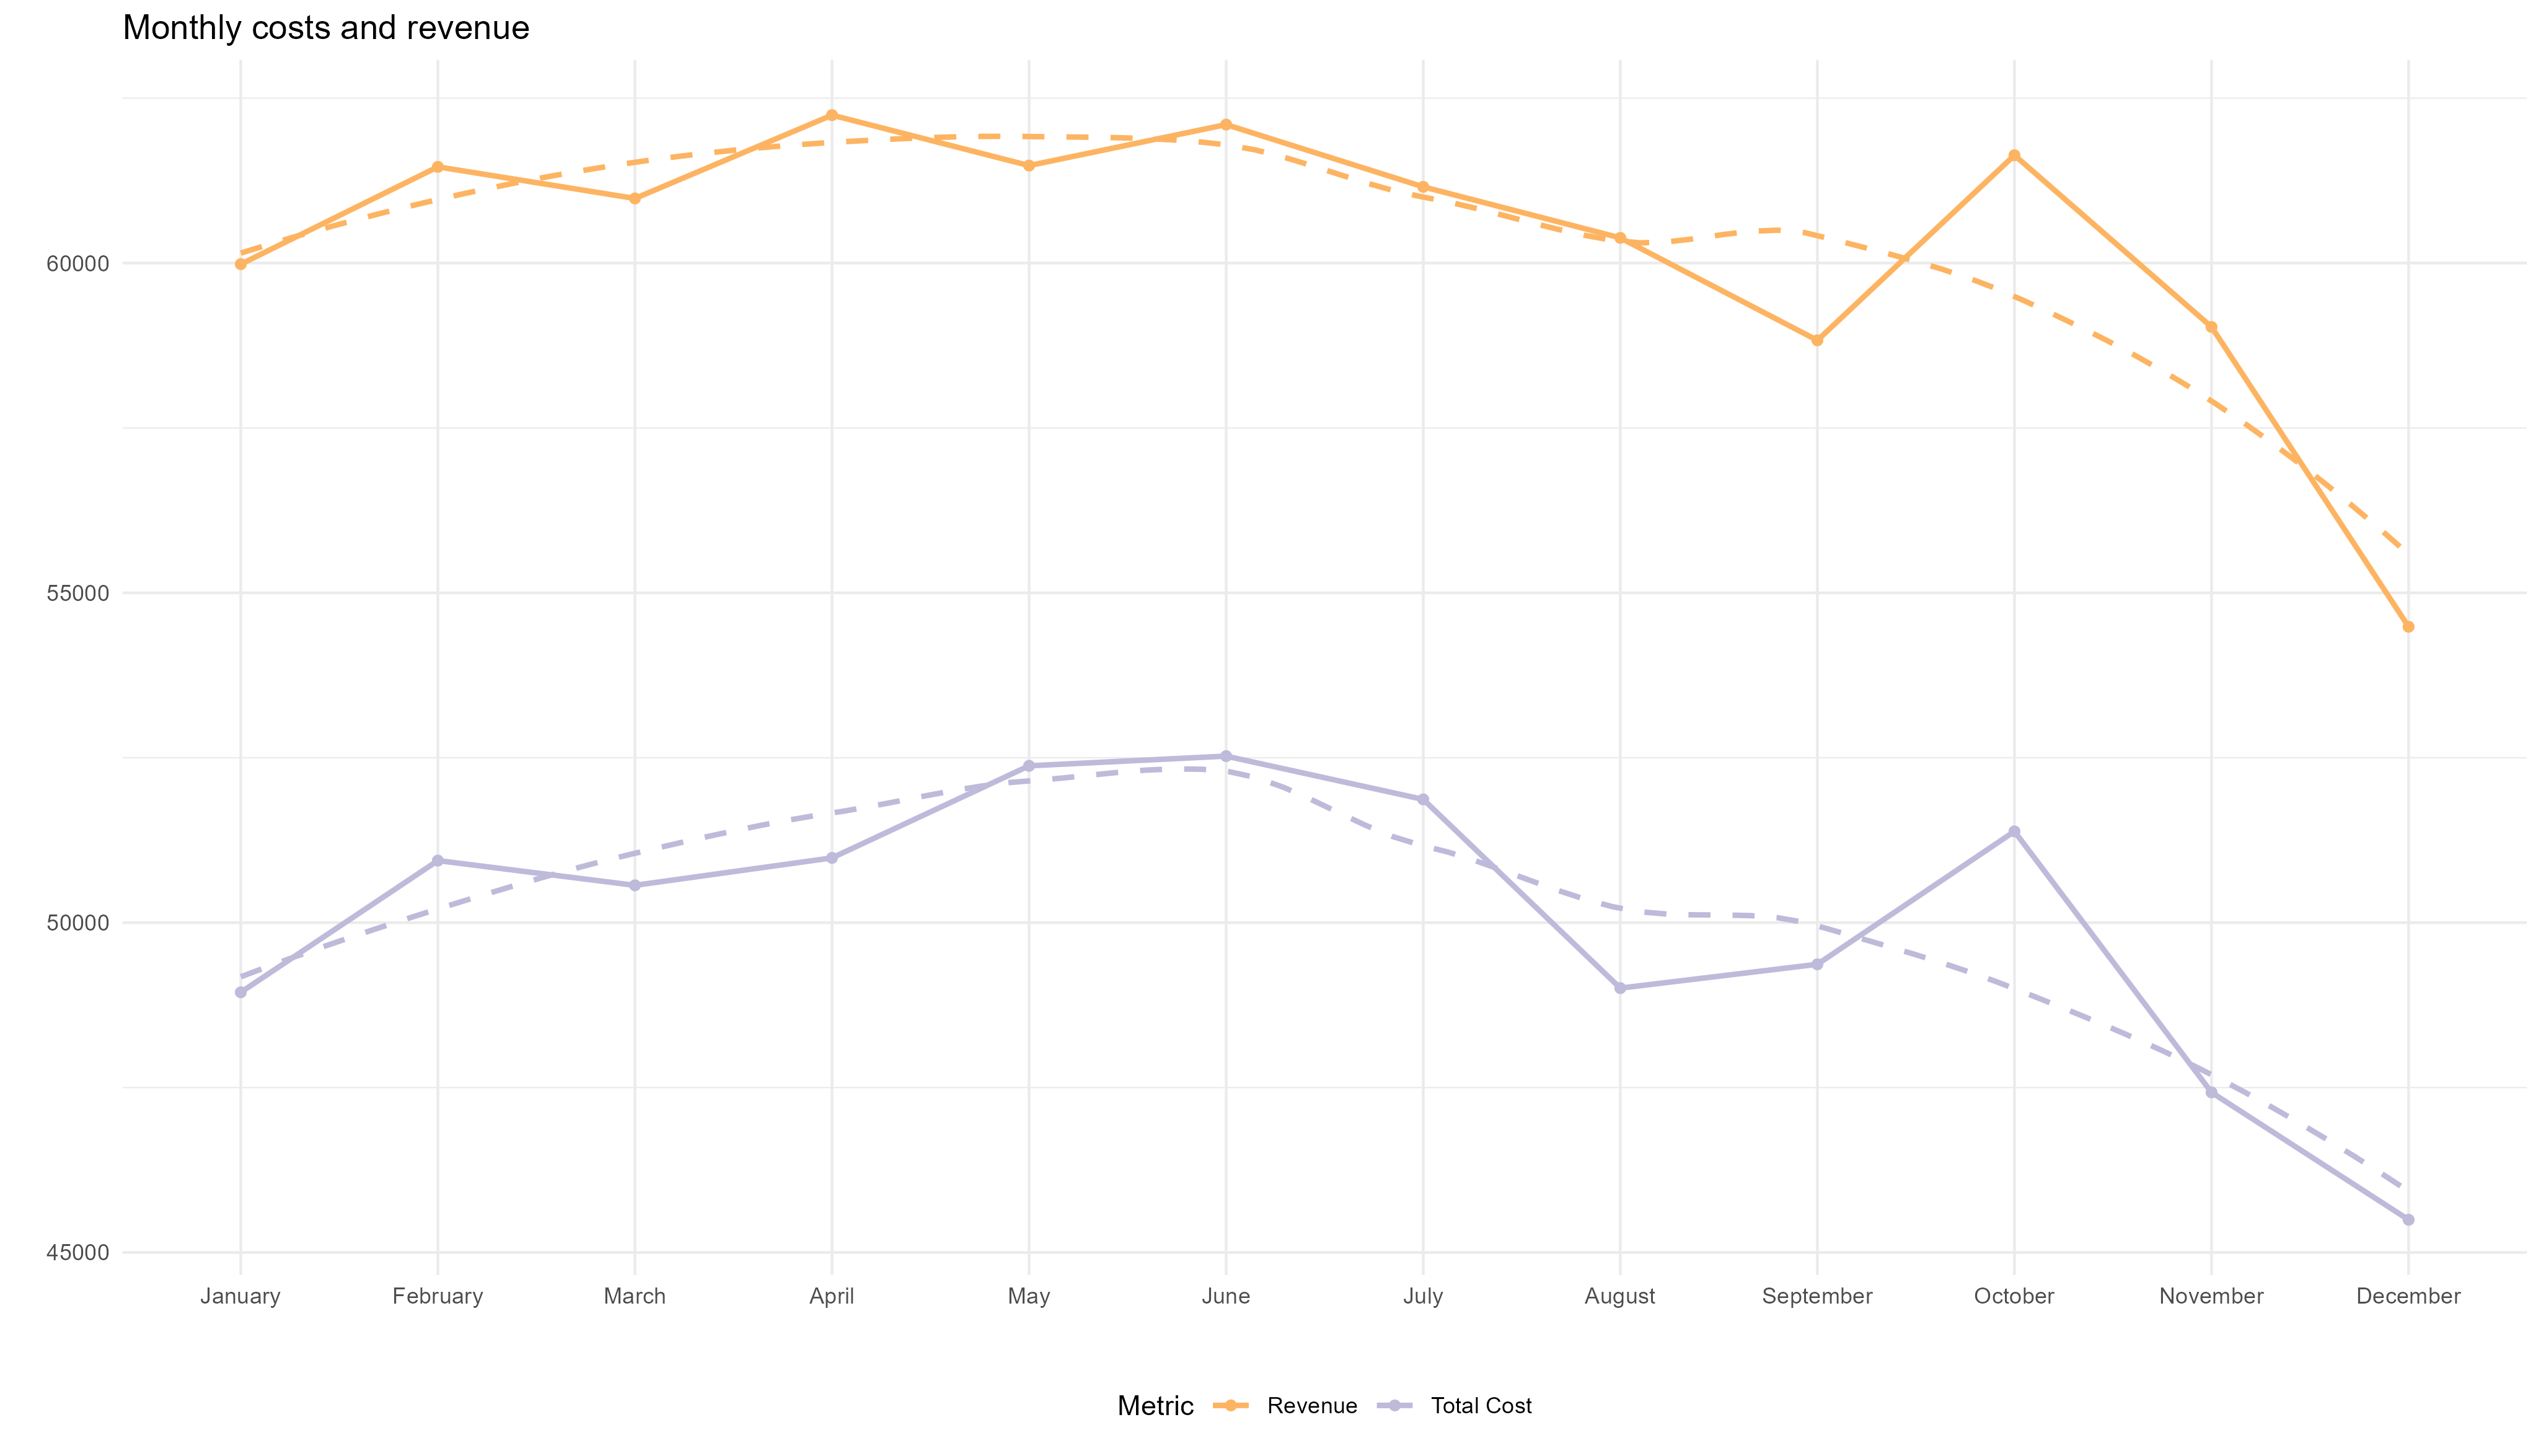

Layout of this report page (visuals, bound fields, positions):
{"tool":"powerbi","page":{"name":"recreating_line","canvas":[1920,1080],"ordinal":0},"visuals":[{"type":"lineChart","title":"Monthly costs and revenue","fields":{"Category":["fake_data.Date.Variation.Date Hierarchy.Month"],"Y":["Sum(fake_data.Cost)","fake_data.Revenue"]},"box":[0,0,1920,1080],"z":0}]}

Visuals, with their boxes on the page's 1920x1080 design canvas (x1, y1, x2, y2). These are canvas units, not pixel positions in the 2541x1456 screenshot, which may show the page scaled, cropped or inside an application window:
"Monthly costs and revenue" lineChart: locate(0, 0, 1920, 1080)
